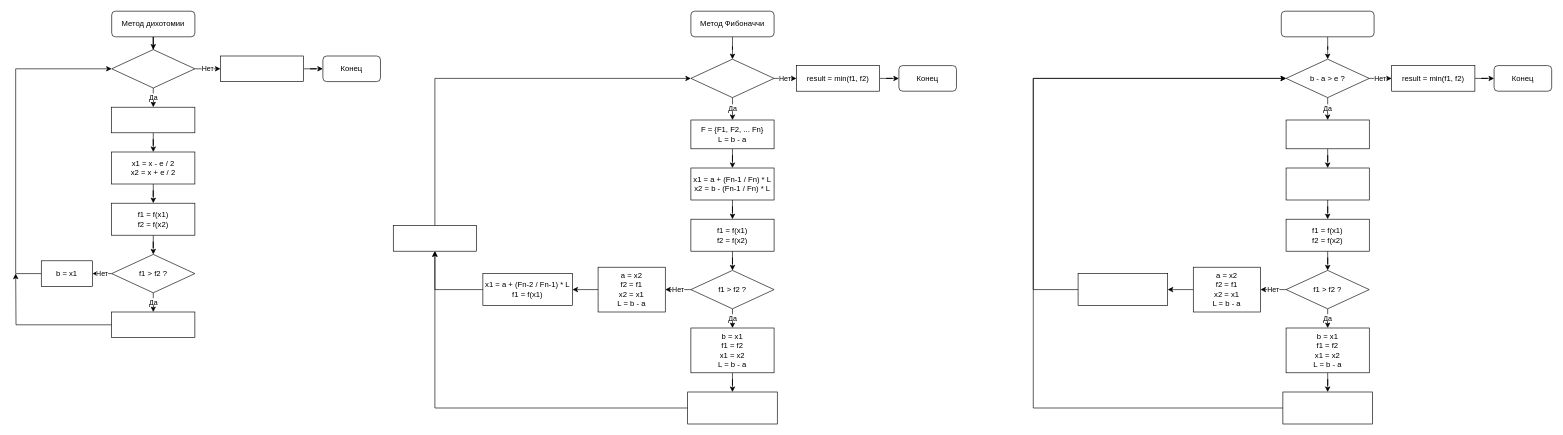
Some shapes in this 1563 by 435 pixel diagram are drawn without their labels. The centre of each missing label's shape, as x and y in pixels:
(b - a) > 2e ?: point 153,68
a = x1: point 153,324
L = b - a: point 1327,134
n = n - 1: point 434,238
n > 2 ?: point 732,78
result = f((a + b) / 2): point 262,68
x = (a + b) / 2: point 153,120
x1 = a + Lt f1 = f(x1): point 1122,289
x1 = a + Lt x2 = b - Lt: point 1327,183
x2 = b - (Fn-2 / Fn-1) * L f2 = f(x2): point 732,407
x2 = b - Lt f2 = f(x2): point 1327,407
Метод Золотого сечения: point 1327,24
